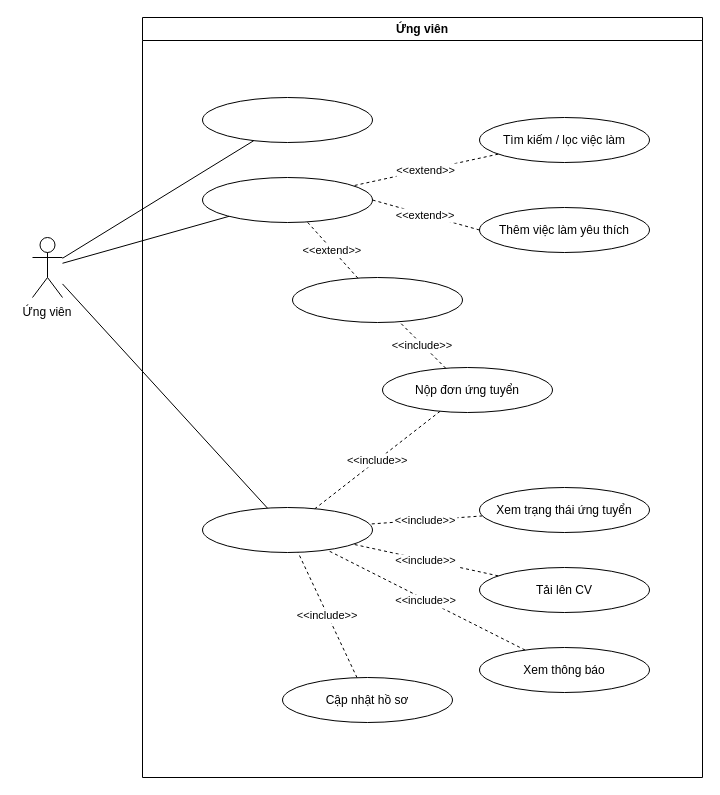
Some shapes in this 720 by 795 pixel diagram are drawn without their labels. The box of each missing label's shape, as (x1, y1, x2, y2) in pixels:
Xem chi tiết công việc: (292, 276, 462, 322)
Xem danh sách việc làm: (202, 176, 372, 222)
Đăng ký tài khoản: (202, 96, 372, 142)
Đăng nhập: (202, 506, 372, 552)
